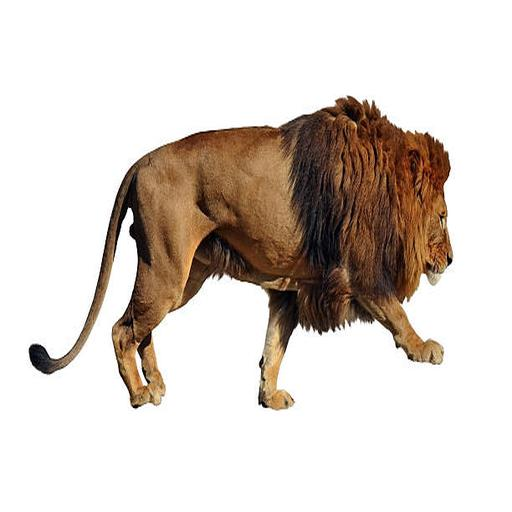Lion: (22, 83, 472, 433)
